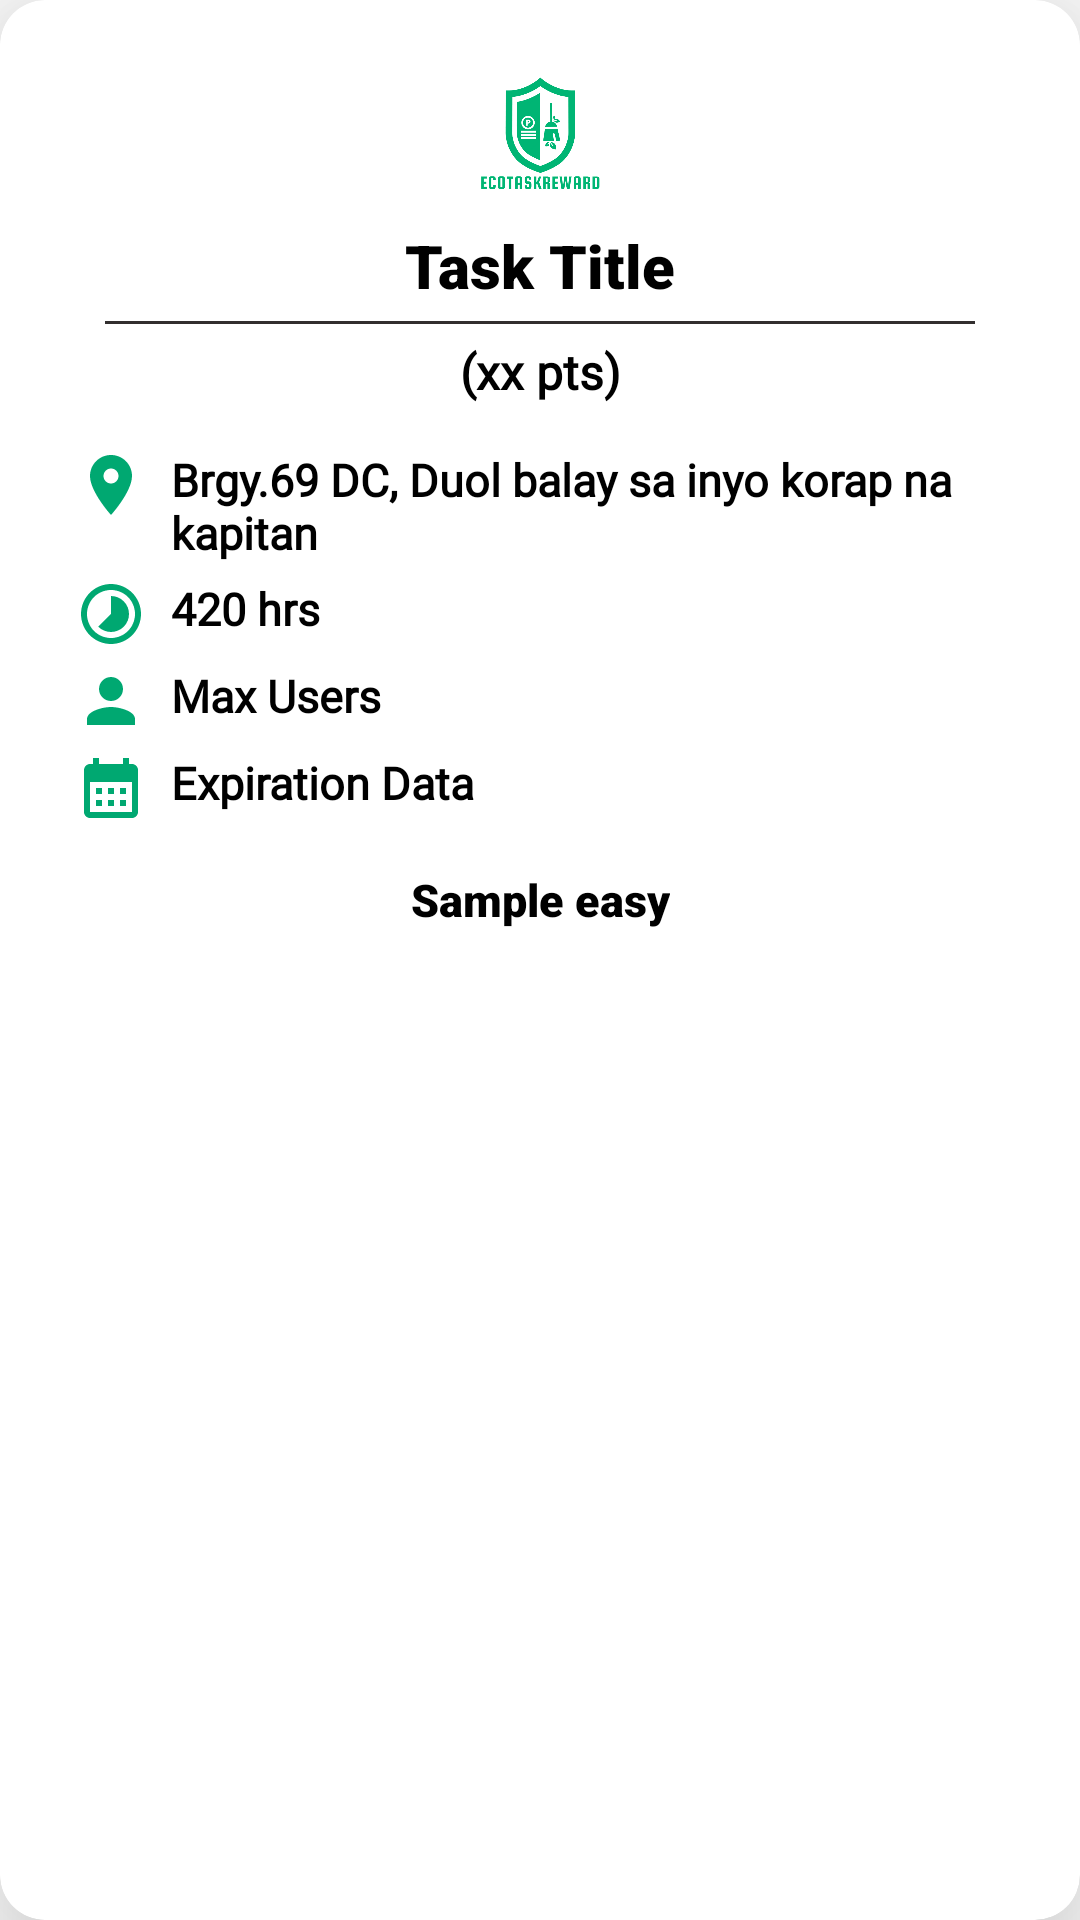

Icons on this 1080px x 1920px Android screen, each with its box as [left=x1, top=y1, right=x2, bottom=y2]:
calendar: [left=84, top=758, right=138, bottom=818]
location: [left=90, top=455, right=132, bottom=515]
person: [left=87, top=677, right=135, bottom=725]
timer: [left=81, top=584, right=141, bottom=644]
